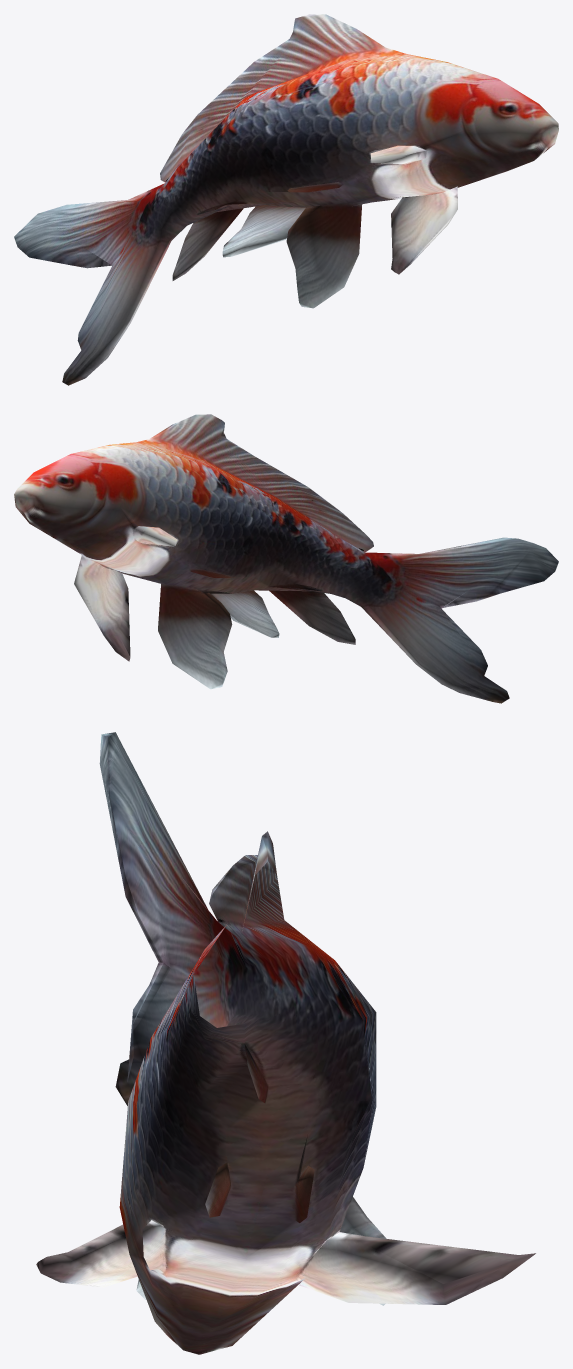
Rendered from koifish.glb.
3 renders of one model, top to bottom at view 1: azimuth 30°, elevation 25°; view 2: azimuth 150°, elevation 25°; view 3: azimuth 270°, elevation 25°, orthographic. The views are drawn at different scales.
Visible parts, largest first — view 1: koifish; view 2: koifish; view 3: koifish.
Boxes of the visible parts, left/top/right/bottom form: koifish: left=14, top=14, right=558, bottom=385; koifish: left=14, top=414, right=558, bottom=703; koifish: left=36, top=732, right=535, bottom=1354.
Bounding box in the file's own units: 6.25 × 2.89 × 2.6.
Materials: 1 (1 with a texture image).
